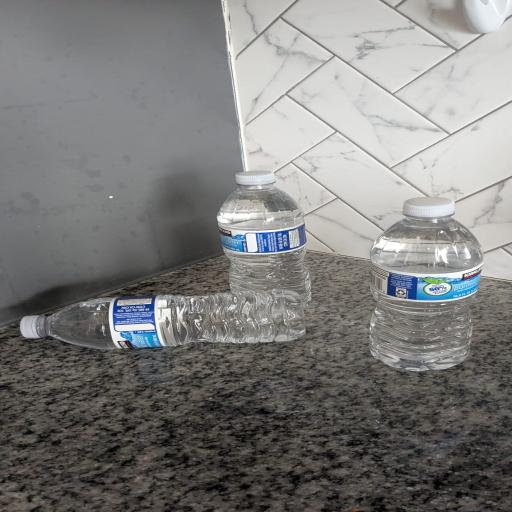waterbottle: (370, 198, 483, 371), (21, 291, 305, 348), (218, 171, 310, 307)
